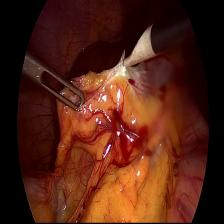Hook: (21, 55, 88, 114), (119, 24, 160, 70)
